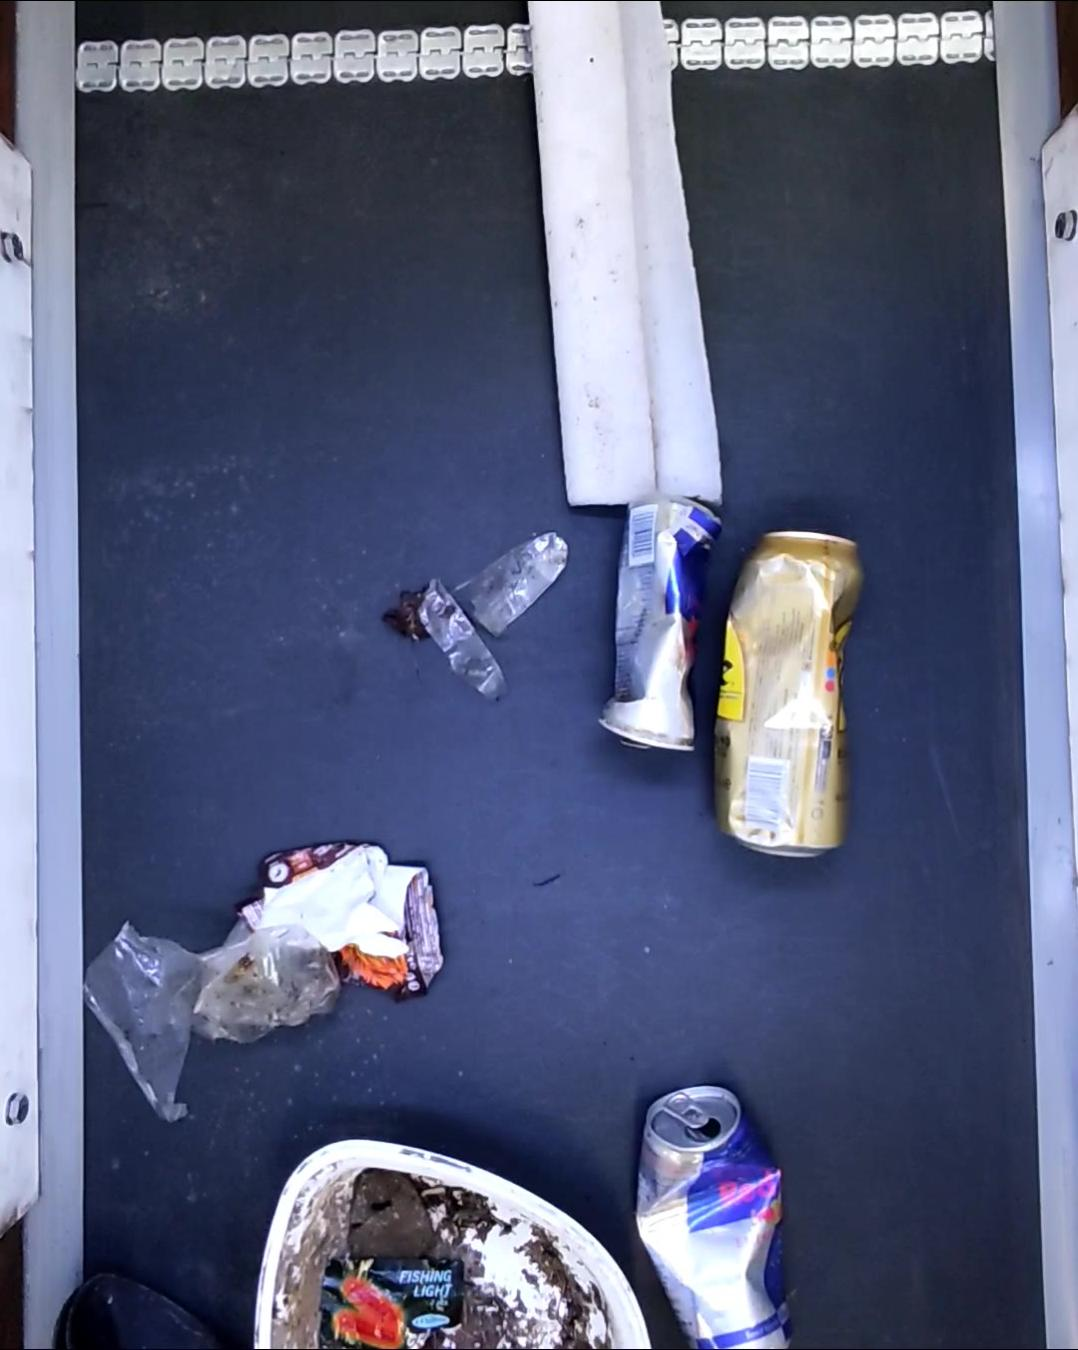Drankblikjes: (721, 523, 867, 859), (630, 1079, 794, 1350), (599, 492, 723, 754)
Plastic folies of stukken daarvan 2.5- 50 cm: (75, 918, 330, 1117), (408, 583, 506, 705), (454, 536, 566, 630)
Snoep snack en chips verpakkingen: (245, 847, 444, 996), (317, 1259, 463, 1350)
Voedselverpakkingen: (261, 1126, 654, 1350)
